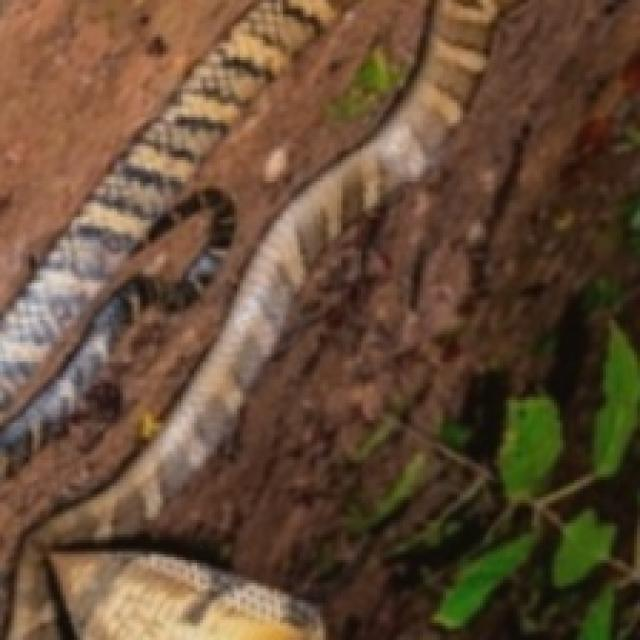king cobra: (9, 0, 637, 637)
